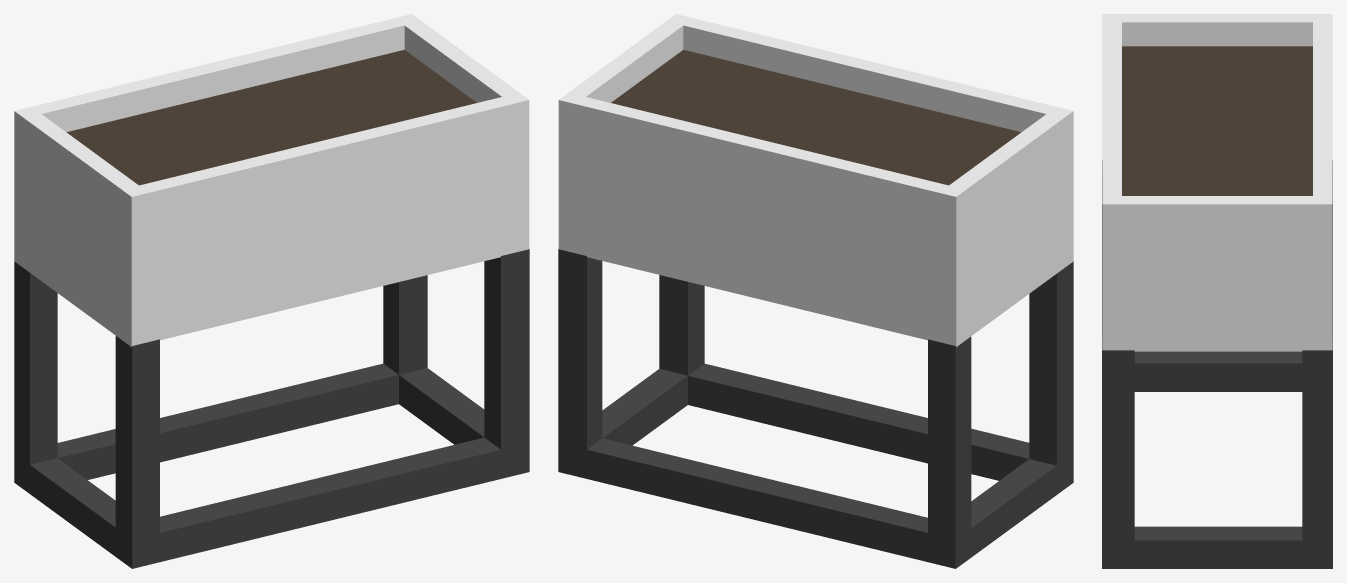
Rendered from plant03_01.gltf.
The picture shows the model from 3 angles, left to right: view 1: azimuth 30°, elevation 25°; view 2: azimuth 150°, elevation 25°; view 3: azimuth 270°, elevation 25°; orthographic projection. The views are drawn at different scales.
Parts seen in each view (by area): view 1: pot1, pot, dirt; view 2: pot1, pot, dirt; view 3: pot1, dirt, pot.
Boxes of the visible parts, x1,y1,x2,y2 form: pot1: (14,14,529,346); pot: (14,249,529,568); dirt: (67,50,476,185); pot1: (558,14,1073,346); pot: (558,249,1073,568); dirt: (611,50,1020,185); pot1: (1102,14,1332,351); dirt: (1122,46,1312,195); pot: (1102,160,1332,568).
Size of the model in its own units: 0.0277 by 0.0248 by 0.0142.
Materials: 1 (1 with a texture image).
